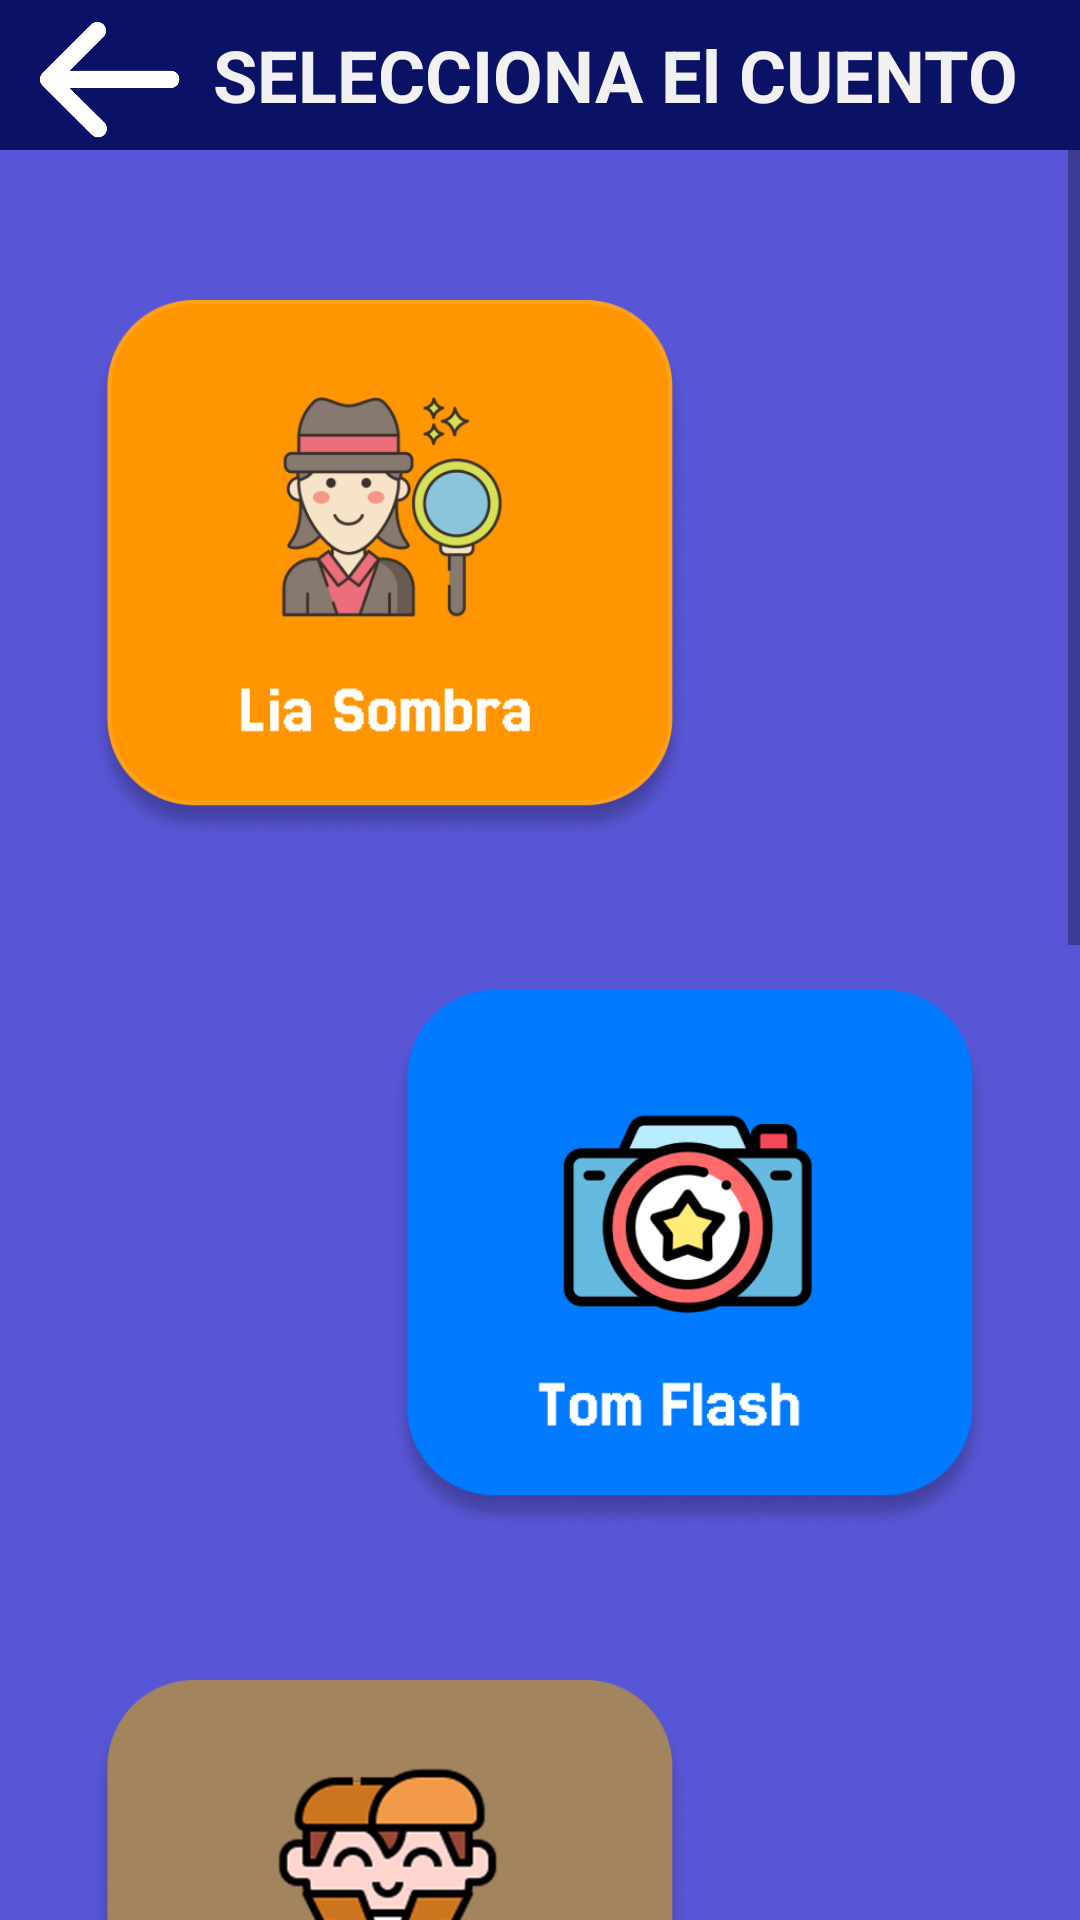

Screen size 1080px x 1920px. Icon name, then its box in pixels as (x1, y1, x2, y2):
flecha izquierda: (40, 22, 180, 138)
